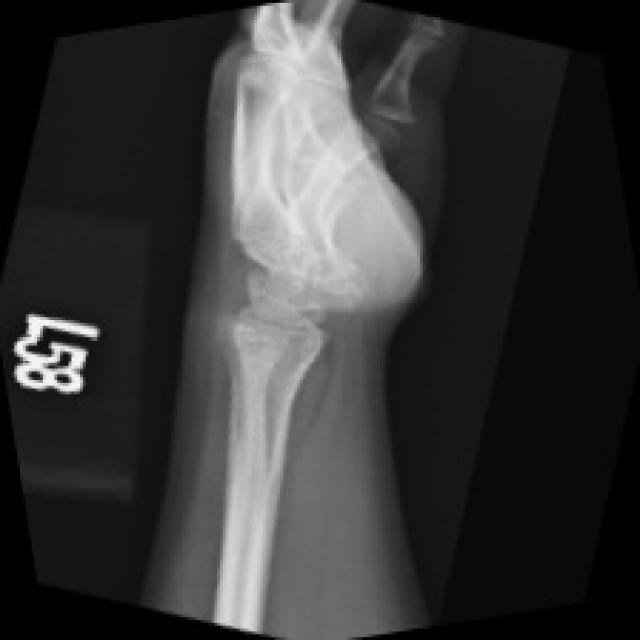fracture: (337, 94, 452, 171)
